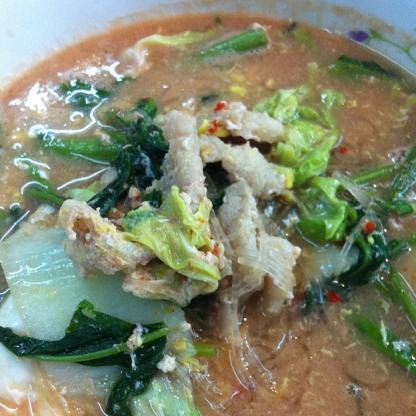Suki: (13, 19, 415, 415)
